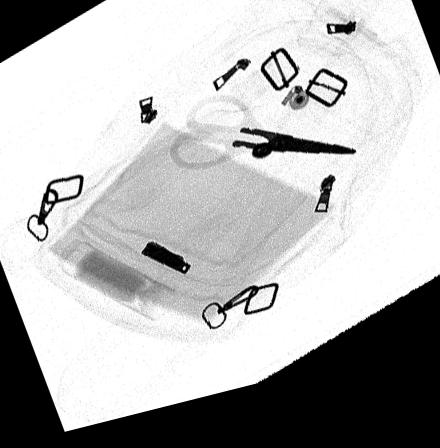Scissors: (163, 99, 359, 187)
